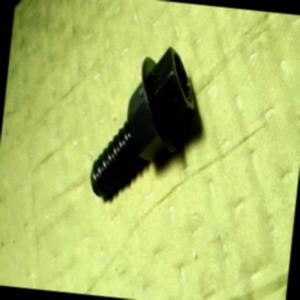parafuso: (88, 38, 202, 208)
